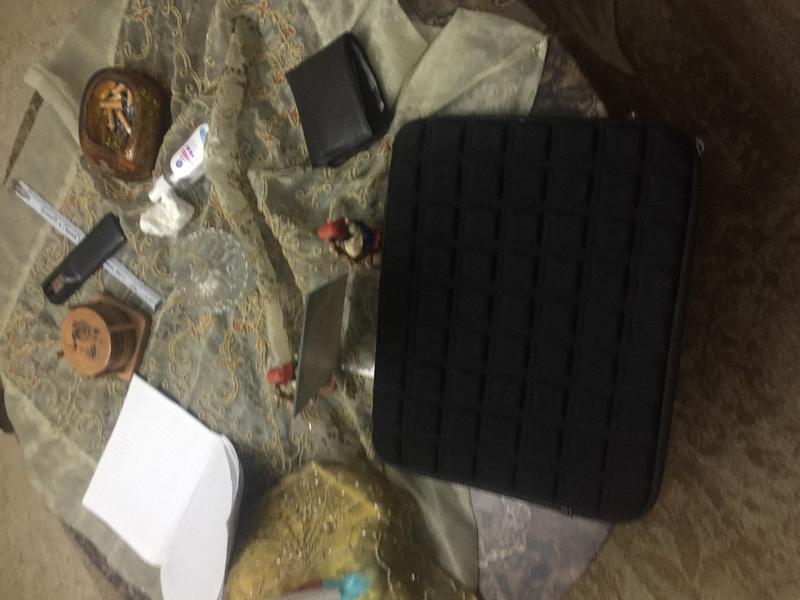cover: (368, 92, 714, 532)
